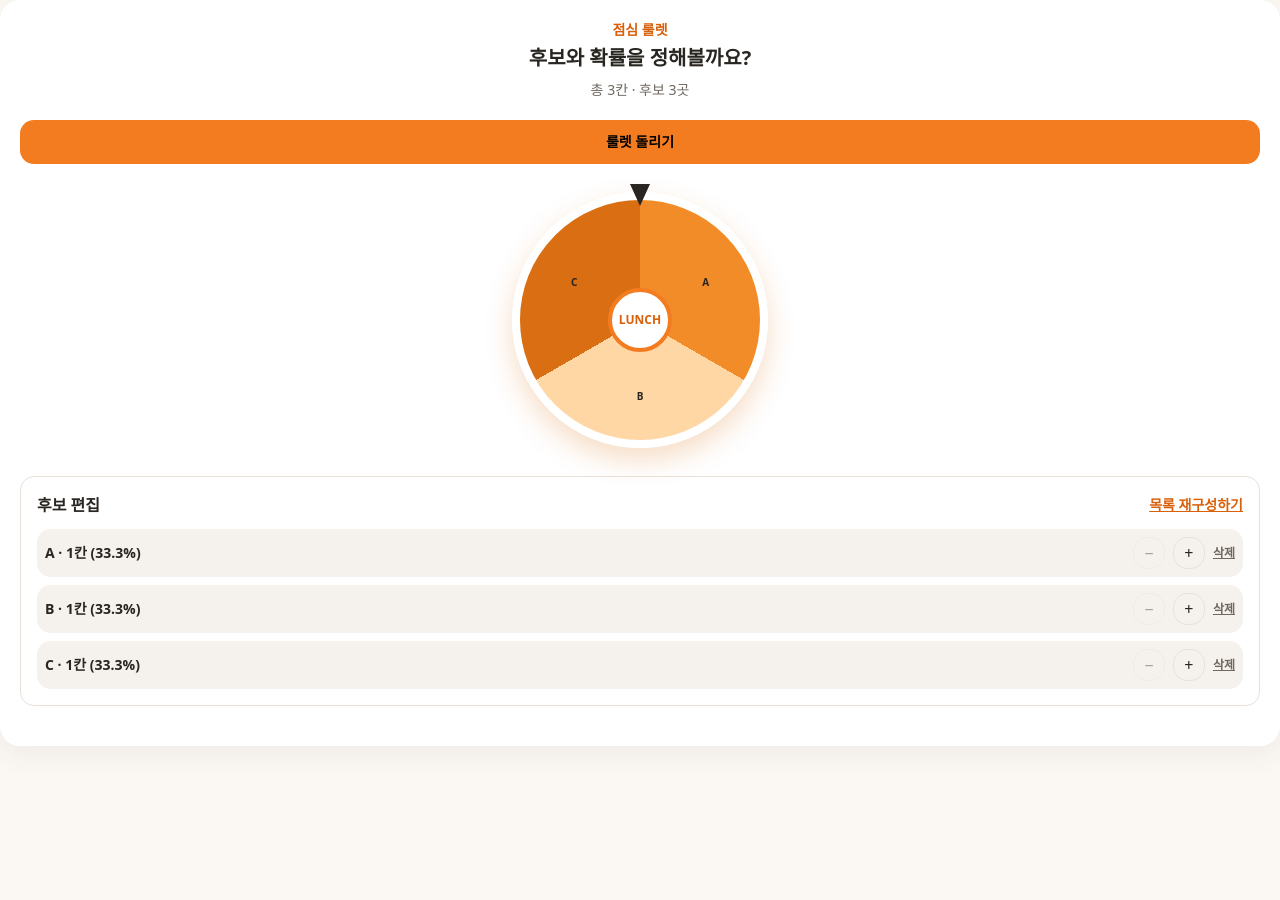
Test: RouletteResult weighted candidates › edits candidate slots and rebuilds the current source list
Expected: the text "총 3칸 · 후보 3곳" is shown, left=591, top=80, right=689, bottom=99
Click the button named "B 칸 늘리기". click: (1189, 609)
box: left=1173, top=593, right=1205, bottom=625
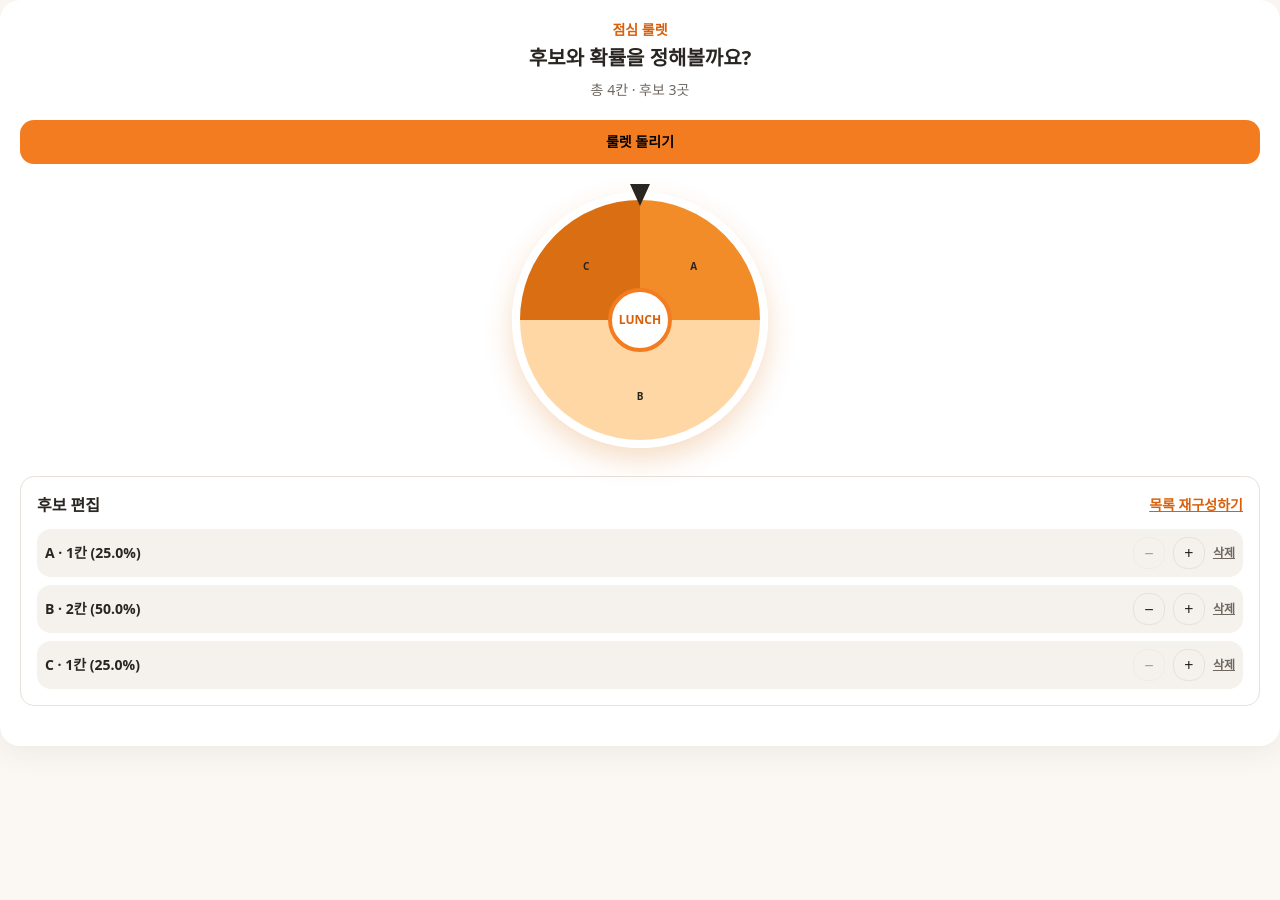
Expected: the text "B · 2칸 (50.0%)" is shown, left=45, top=599, right=140, bottom=618
Click the button with aria-label "C 후보 삭제". click: (1224, 665)
box: left=1213, top=657, right=1235, bottom=673
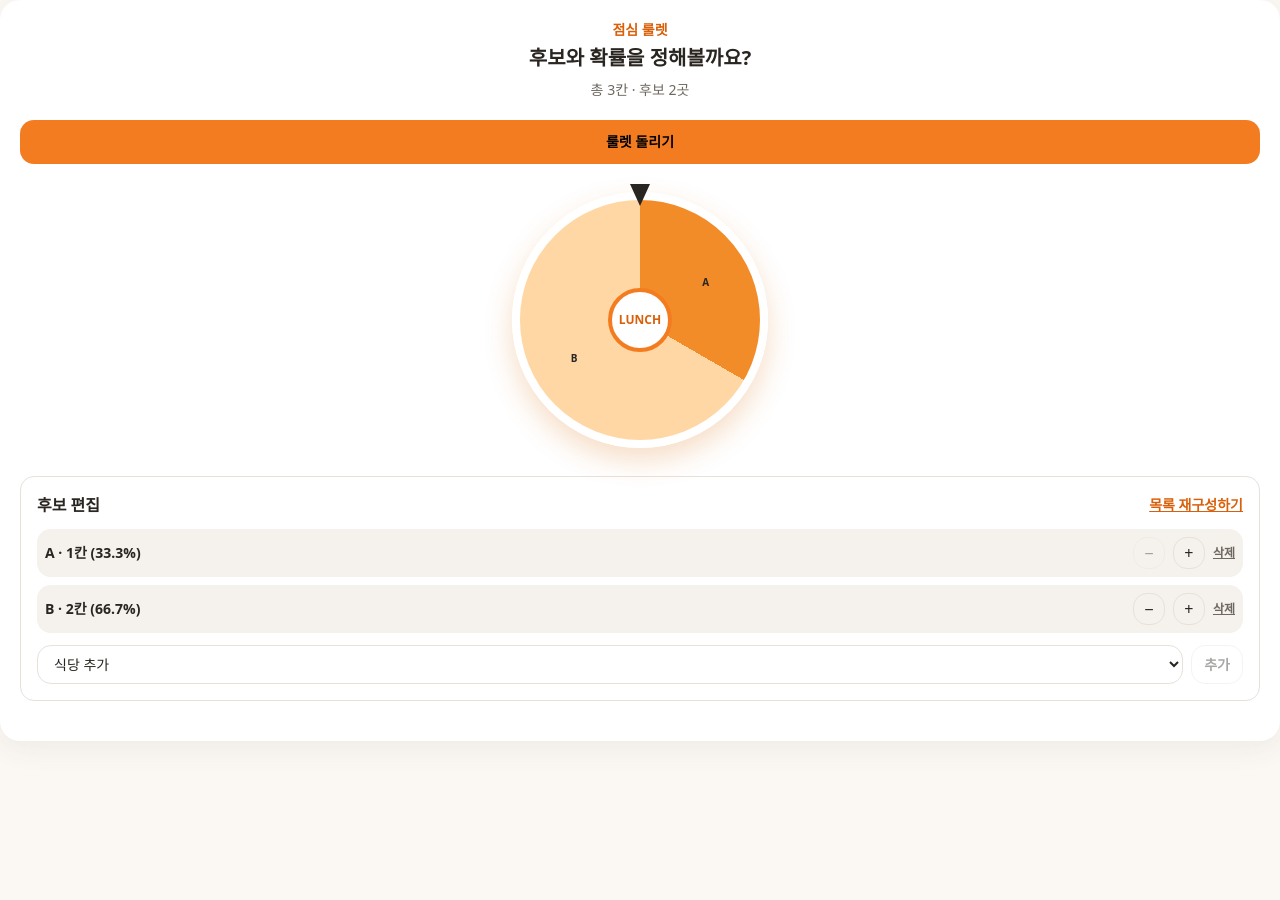
Expected: the text "C ·" is gone
Select "C" in the dropdown named "추가할 식당". click: (610, 664)
box: left=37, top=645, right=1183, bottom=684
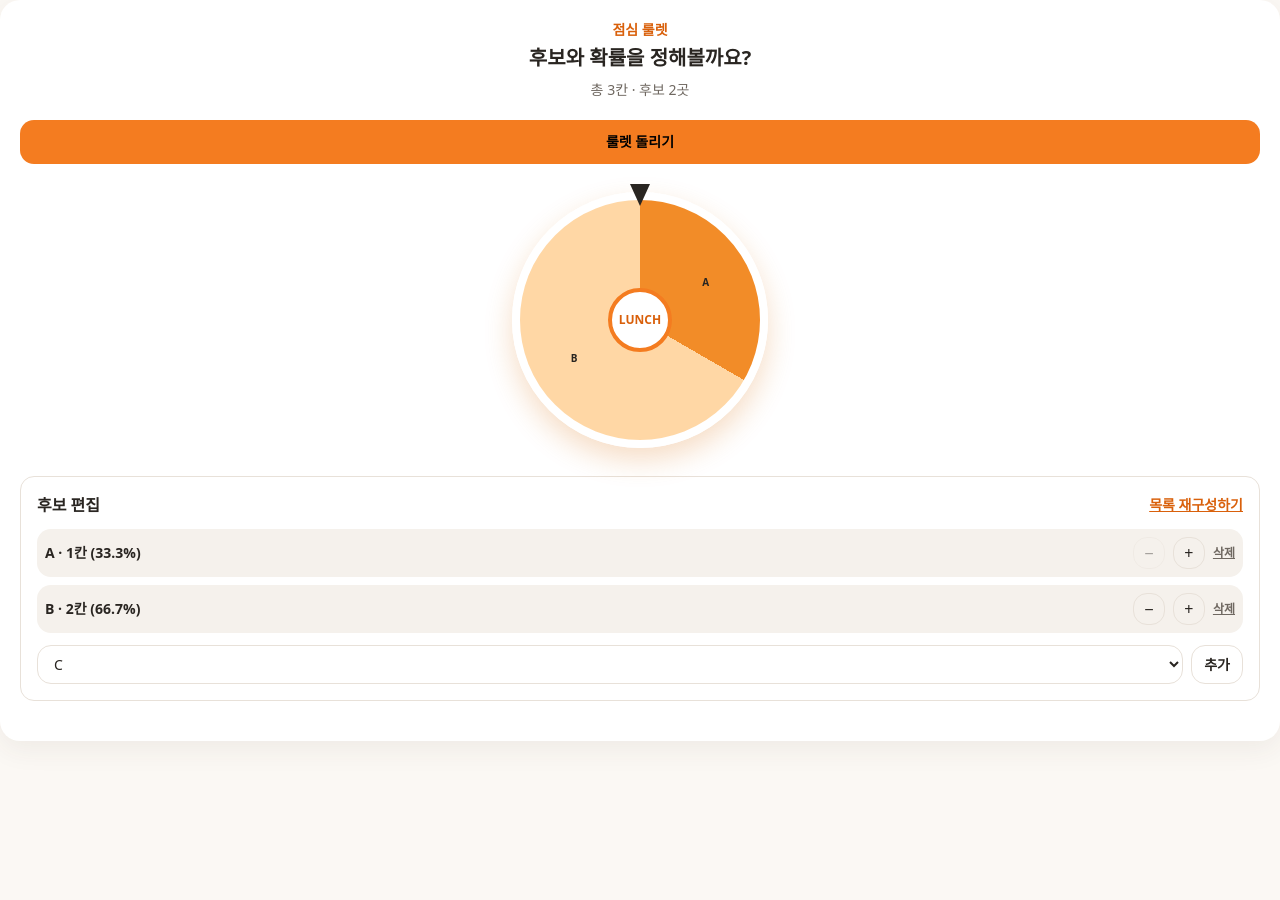
Click the button "추가". click: (1217, 664)
box: left=1191, top=645, right=1243, bottom=684
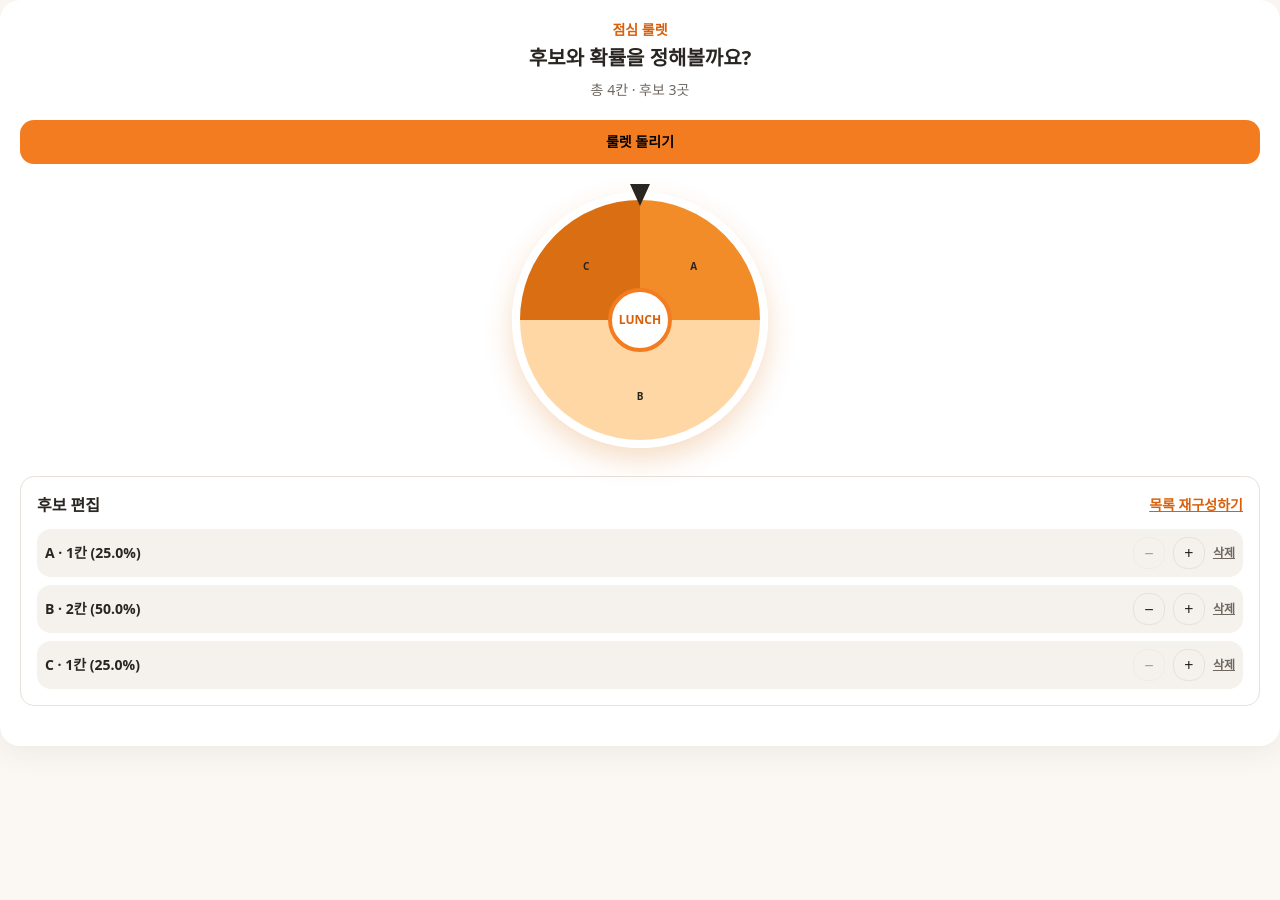
Expected: the text "C · 1칸 (25.0%)" is shown, left=45, top=655, right=140, bottom=674
Click the button "목록 재구성하기". click: (1196, 505)
box: left=1149, top=495, right=1243, bottom=515
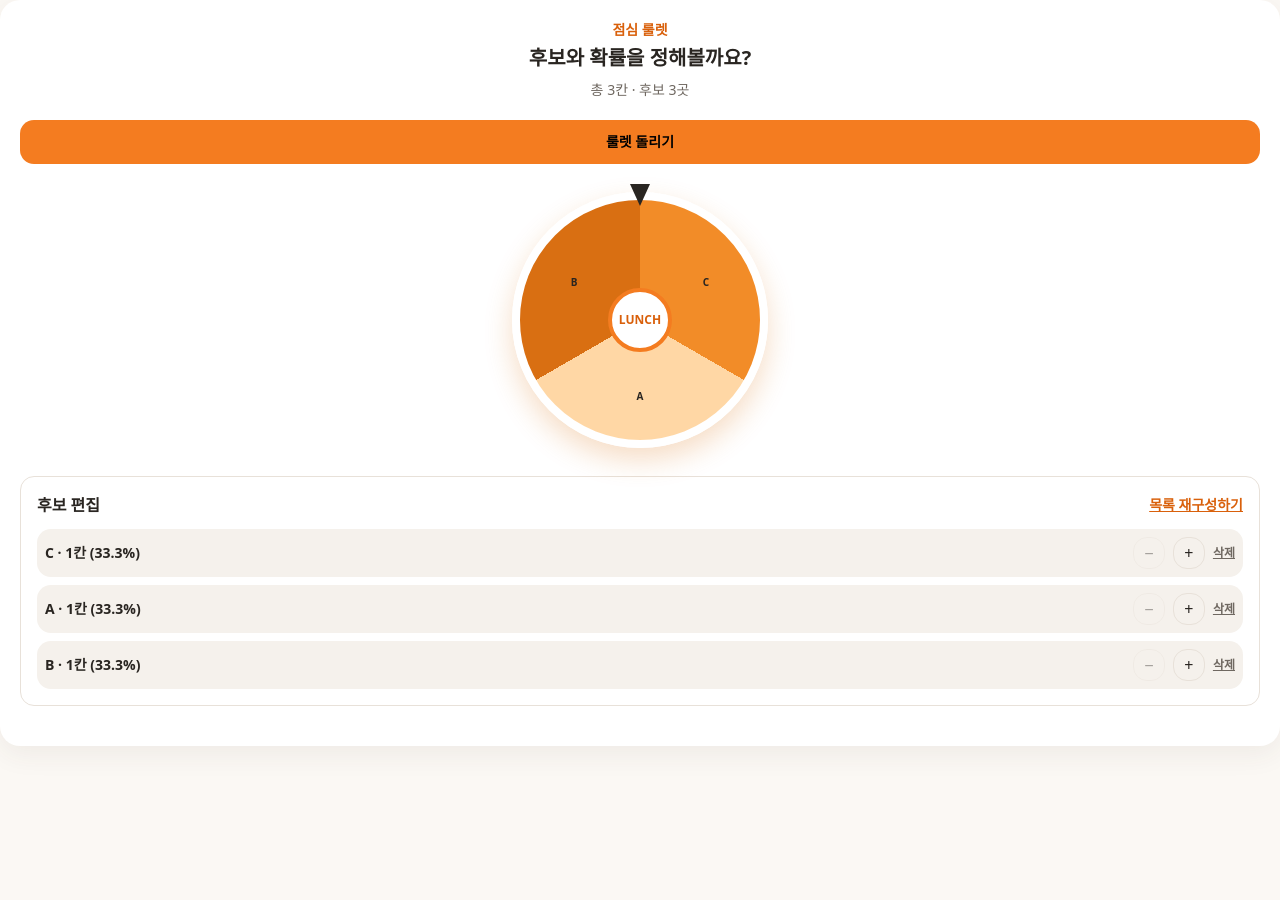
Expected: the text "총 3칸 · 후보 3곳" is shown, left=591, top=80, right=689, bottom=99
Expected: the text "B · 1칸 (33.3%)" is shown, left=45, top=655, right=140, bottom=674
